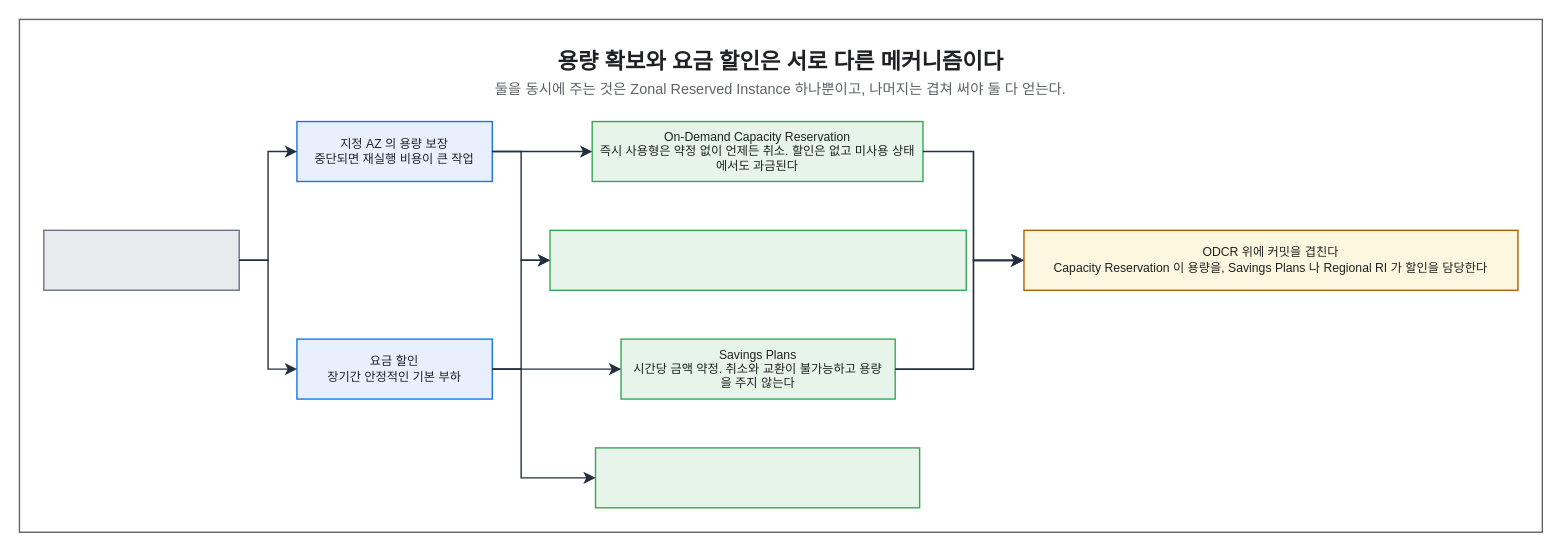
This 1563x553 diagram has some shape labels left out. Each missing label, with the centre of its shape:
Regional Reserved Instance AZ 유연성과 purchase queuing 이 있고 용량을 예약하지 않는다: the point at 757,477
Zonal Reserved Instance 지정 AZ 에 용량을 예약하고 할인도 준다. AZ 유연성과 size 유연성과 queuing 이 없다: the point at 757,259
워크로드 요구 무엇이 필요한지 먼저 나눈다: the point at 141,259
